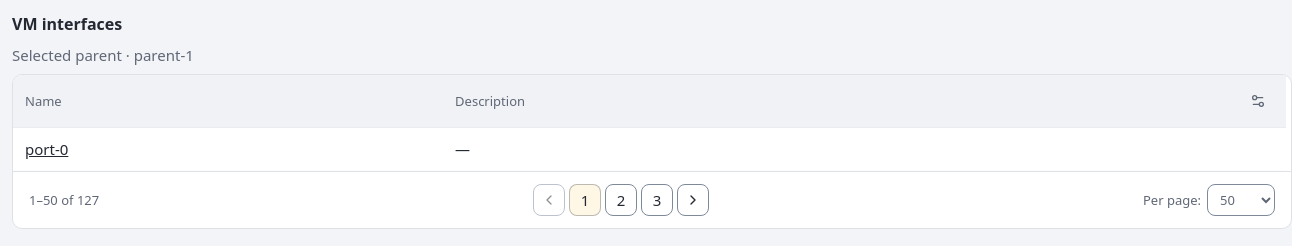
Test: metadata-derived read-only resource children › uses server totals and offset for Next page without offering unsupported sorting
Check: the link "port-0" is shown, box [25, 139, 68, 159]
Check: the text "1–50 of 127" is shown, box [29, 190, 99, 210]
Click the button named "Next page" at (693, 200), box [677, 184, 709, 216]
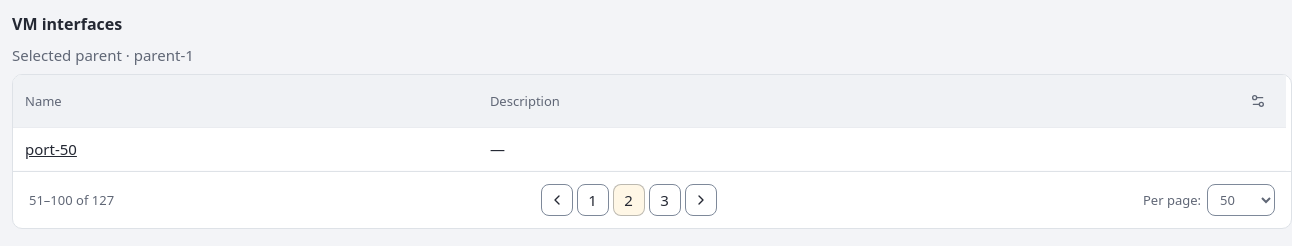
Check: the link "port-50" is shown, box [25, 139, 77, 159]
Check: the text "51–100 of 127" is shown, box [29, 190, 114, 210]
